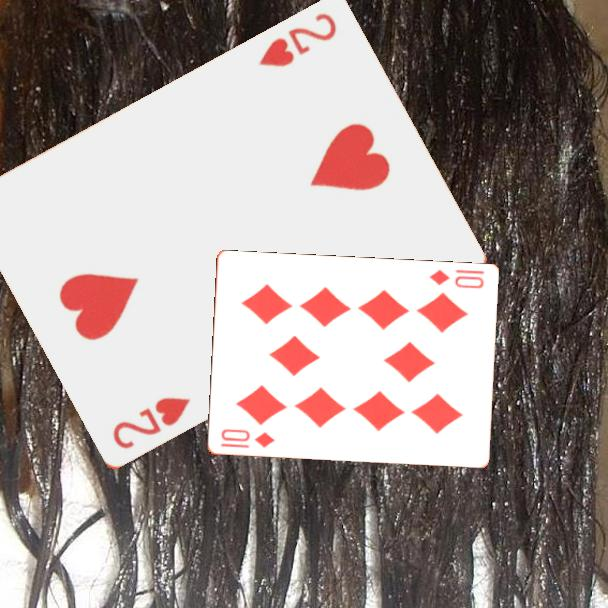d10: (425, 266, 487, 292), (217, 426, 277, 451)
h02: (254, 10, 340, 71), (108, 394, 193, 453)
